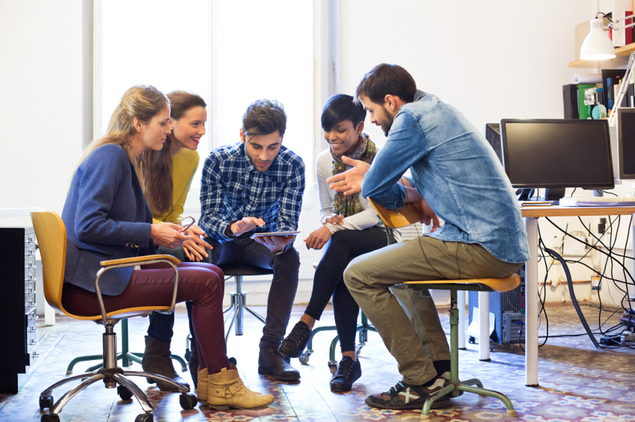Person: (78, 86, 219, 406), (361, 78, 514, 371), (217, 104, 302, 353)
